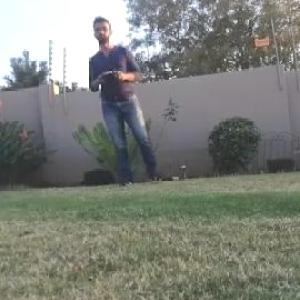follow: (85, 11, 169, 190)
